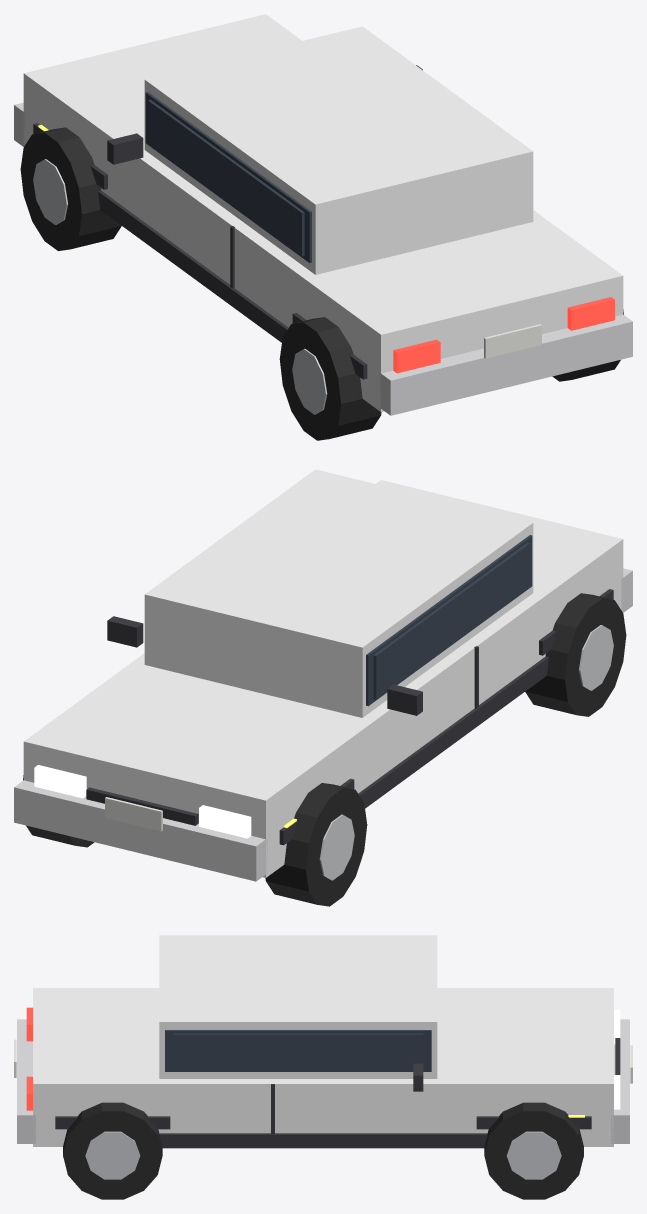
The model's file is car_sedan.glb.
3 views of the same model, one above another, from view 1: azimuth 30°, elevation 25°; view 2: azimuth 150°, elevation 25°; view 3: azimuth 270°, elevation 25° (orthographic). The views are drawn at different scales.
Visible parts, largest first — view 1: Sedan_body, Sedan_cab, Sedan_bumperR, Sedan_sideglass-1, Sedan_tire-1-2, Sedan_tire-12, Sedan_sill-1, Sedan_glass, Sedan_rim-1-2, Sedan_rim-12, Sedan_plateR, Sedan_tail-1 (+2 smaller); view 2: Sedan_body, Sedan_cab, Sedan_bumperF, Sedan_sideglass-1, Sedan_tire-12, Sedan_tire-1-2, Sedan_sill-1, Sedan_glass, Sedan_rim-12, Sedan_rim-1-2, Sedan_plateF, Sedan_head-1 (+4 smaller); view 3: Sedan_body, Sedan_cab, Sedan_sideglass1, Sedan_tire1-2, Sedan_tire12, Sedan_sill1, Sedan_glass, Sedan_rim1-2, Sedan_rim12, Sedan_bumperR, Sedan_bumperF, Sedan_arch1-2 (+1 smaller).
Boxes of the visible parts, left/top/right/bottom form: Sedan_body: left=23, top=14, right=623, bottom=412; Sedan_cab: left=144, top=26, right=533, bottom=274; Sedan_bumperR: left=379, top=314, right=632, bottom=415; Sedan_sideglass-1: left=148, top=99, right=304, bottom=256; Sedan_tire-1-2: left=279, top=317, right=381, bottom=440; Sedan_tire-12: left=20, top=127, right=121, bottom=250; Sedan_sill-1: left=98, top=190, right=288, bottom=342; Sedan_glass: left=145, top=92, right=311, bottom=262; Sedan_rim-1-2: left=292, top=348, right=327, bottom=414; Sedan_rim-12: left=33, top=159, right=67, bottom=224; Sedan_plateR: left=484, top=324, right=541, bottom=358; Sedan_tail-1: left=393, top=339, right=440, bottom=373; Sedan_body: left=23, top=480, right=623, bottom=877; Sedan_cab: left=144, top=469, right=533, bottom=717; Sedan_bumperF: left=14, top=780, right=267, bottom=881; Sedan_sideglass-1: left=373, top=543, right=529, bottom=699; Sedan_tire-12: left=265, top=783, right=367, bottom=906; Sedan_tire-1-2: left=525, top=593, right=626, bottom=716; Sedan_sill-1: left=358, top=656, right=548, bottom=808; Sedan_glass: left=366, top=535, right=532, bottom=706; Sedan_rim-12: left=319, top=814, right=354, bottom=880; Sedan_rim-1-2: left=579, top=625, right=613, bottom=690; Sedan_plateF: left=105, top=797, right=162, bottom=831; Sedan_head-1: left=199, top=805, right=251, bottom=838; Sedan_body: left=33, top=988, right=613, bottom=1146; Sedan_cab: left=159, top=935, right=437, bottom=1078; Sedan_sideglass1: left=173, top=1033, right=423, bottom=1070; Sedan_tire1-2: left=63, top=1102, right=162, bottom=1199; Sedan_tire12: left=484, top=1102, right=583, bottom=1199; Sedan_sill1: left=159, top=1133, right=487, bottom=1148; Sedan_glass: left=165, top=1030, right=431, bottom=1071; Sedan_rim1-2: left=85, top=1131, right=140, bottom=1179; Sedan_rim12: left=506, top=1131, right=561, bottom=1179; Sedan_bumperR: left=17, top=1019, right=35, bottom=1143; Sedan_bumperF: left=611, top=1019, right=629, bottom=1143; Sedan_arch1-2: left=55, top=1116, right=170, bottom=1129.
Size of the model in its own units: 2.3 by 1.44 by 4.9.
